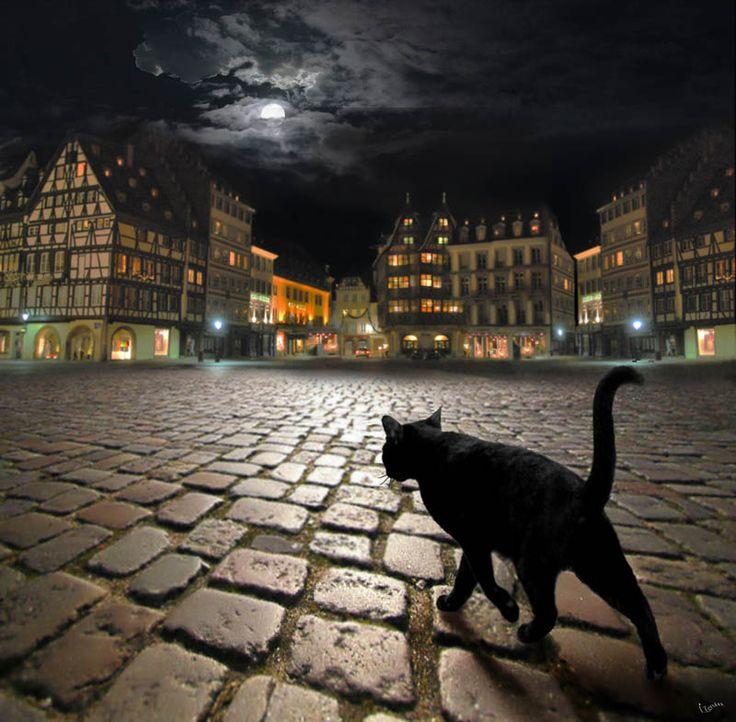kedo: (386, 366, 668, 680)
